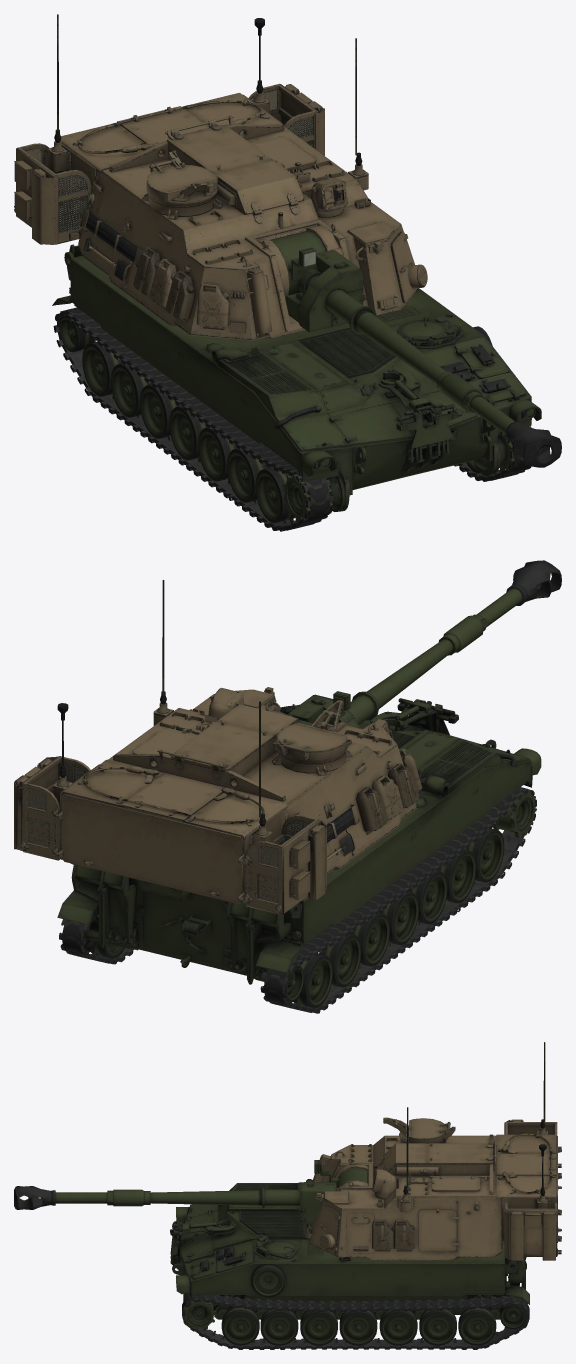
3 views of the same model, one above another, from view 1: azimuth 30°, elevation 25°; view 2: azimuth 150°, elevation 25°; view 3: azimuth 270°, elevation 25° (orthographic). The views are drawn at different scales.
Visible parts, largest first — view 1: g_turret_m109a6__M109A6_PaladinTurret_32_0, hull__M109A6_PaladinHull_396_0, g_cannonbase_m109a6_m284l52__M109A6_PaladinCannon_709_0, suspension_left__M109A6_PaladinWheels_993_0, tread_right__M109A6_PaladinTrack_157_0, g_noeffec01_turret_m109a6__M109A6_PaladinGear_784_0; view 2: g_turret_m109a6__M109A6_PaladinTurret_32_0, hull__M109A6_PaladinHull_396_0, suspension_left__M109A6_PaladinWheels_993_0, tread_right__M109A6_PaladinTrack_157_0, g_cannonbase_m109a6_m284l52__M109A6_PaladinCannon_709_0, g_noeffec01_turret_m109a6__M109A6_PaladinGear_784_0, antenna_short__M109A6_PaladinGear_790_0; view 3: g_turret_m109a6__M109A6_PaladinTurret_32_0, hull__M109A6_PaladinHull_396_0, suspension_left__M109A6_PaladinWheels_993_0, tread_right__M109A6_PaladinTrack_157_0, g_cannonbase_m109a6_m284l52__M109A6_PaladinCannon_709_0, g_noeffec01_turret_m109a6__M109A6_PaladinGear_784_0, antenna_short__M109A6_PaladinGear_790_0.
Boxes of the visible parts, <box> form: g_turret_m109a6__M109A6_PaladinTurret_32_0: <box>14,18,427,340</box>; hull__M109A6_PaladinHull_396_0: <box>52,244,541,511</box>; g_cannonbase_m109a6_m284l52__M109A6_PaladinCannon_709_0: <box>270,231,561,467</box>; suspension_left__M109A6_PaladinWheels_993_0: <box>59,315,530,523</box>; tread_right__M109A6_PaladinTrack_157_0: <box>53,307,531,531</box>; g_noeffec01_turret_m109a6__M109A6_PaladinGear_784_0: <box>133,247,230,329</box>; g_turret_m109a6__M109A6_PaladinTurret_32_0: <box>14,687,416,914</box>; hull__M109A6_PaladinHull_396_0: <box>57,698,541,984</box>; suspension_left__M109A6_PaladinWheels_993_0: <box>83,790,536,1008</box>; tread_right__M109A6_PaladinTrack_157_0: <box>59,787,536,1013</box>; g_cannonbase_m109a6_m284l52__M109A6_PaladinCannon_709_0: <box>287,560,561,728</box>; g_noeffec01_turret_m109a6__M109A6_PaladinGear_784_0: <box>356,748,422,834</box>; antenna_short__M109A6_PaladinGear_790_0: <box>162,580,260,817</box>; g_turret_m109a6__M109A6_PaladinTurret_32_0: <box>306,1117,561,1260</box>; hull__M109A6_PaladinHull_396_0: <box>170,1179,529,1314</box>; suspension_left__M109A6_PaladinWheels_993_0: <box>182,1295,525,1345</box>; tread_right__M109A6_PaladinTrack_157_0: <box>182,1257,529,1349</box>; g_cannonbase_m109a6_m284l52__M109A6_PaladinCannon_709_0: <box>14,1160,366,1224</box>; g_noeffec01_turret_m109a6__M109A6_PaladinGear_784_0: <box>372,1220,414,1251</box>; antenna_short__M109A6_PaladinGear_790_0: <box>406,1042,545,1187</box>.
Size of the model in its own units: 3.83 by 4.47 by 9.38.
7 materials, 7 textured.
